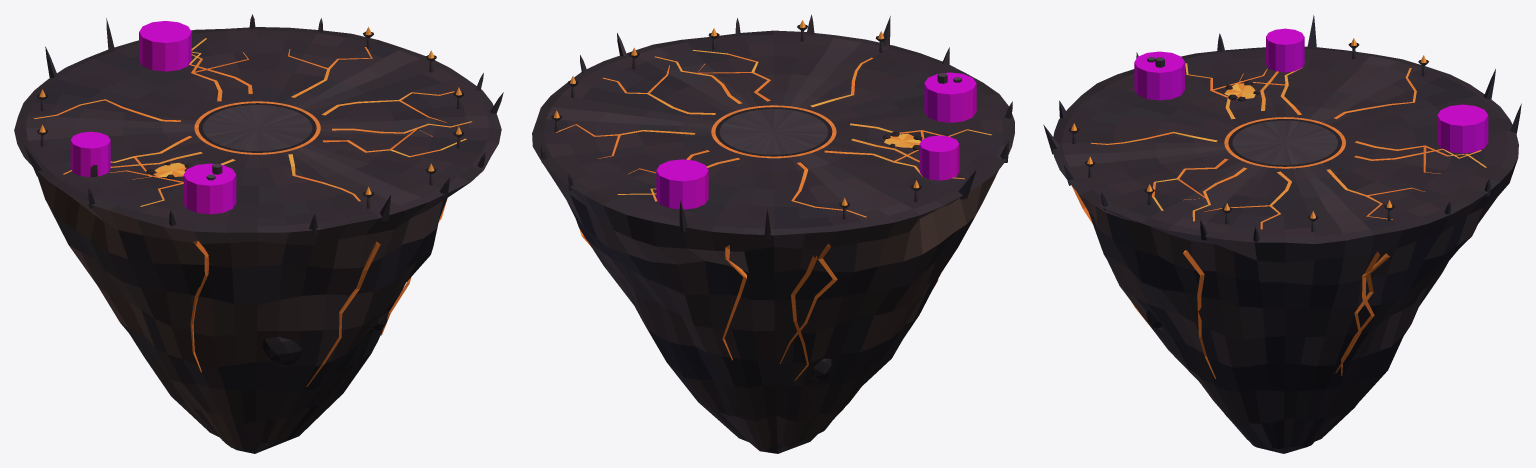
File: isle_home_fire.glb
3 renders of one model, left to right at view 1: azimuth 30°, elevation 25°; view 2: azimuth 150°, elevation 25°; view 3: azimuth 270°, elevation 25°, orthographic. The views are drawn at different scales.
Visible parts, largest first — view 1: isle_home_fire, col_basalt_b, col_basalt_a, col_basalt_c; view 2: isle_home_fire, col_basalt_b, col_basalt_a, col_basalt_c; view 3: isle_home_fire, col_basalt_b, col_basalt_a, col_basalt_c.
Boxes of the visible parts, <box> form: isle_home_fire: <box>14,14,503,453</box>; col_basalt_b: <box>139,21,191,71</box>; col_basalt_a: <box>183,163,236,214</box>; col_basalt_c: <box>70,131,110,177</box>; isle_home_fire: <box>532,14,1014,453</box>; col_basalt_b: <box>656,159,708,209</box>; col_basalt_a: <box>924,72,976,122</box>; col_basalt_c: <box>919,135,959,180</box>; isle_home_fire: <box>1043,15,1521,453</box>; col_basalt_b: <box>1437,104,1488,153</box>; col_basalt_a: <box>1134,51,1184,100</box>; col_basalt_c: <box>1266,28,1304,72</box>.
Size of the model in its own units: 47.18 by 37.73 by 47.14.
